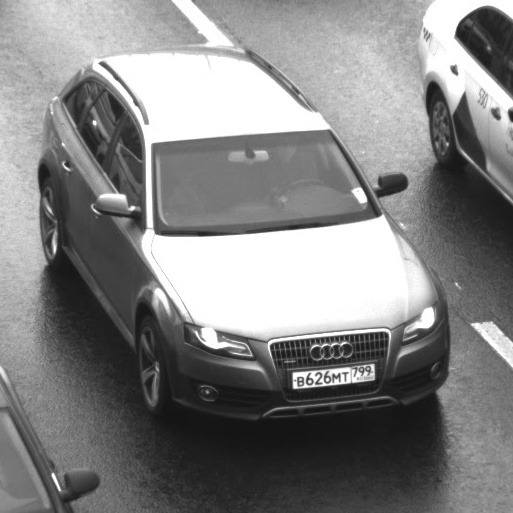plate: (278, 353, 382, 396)
